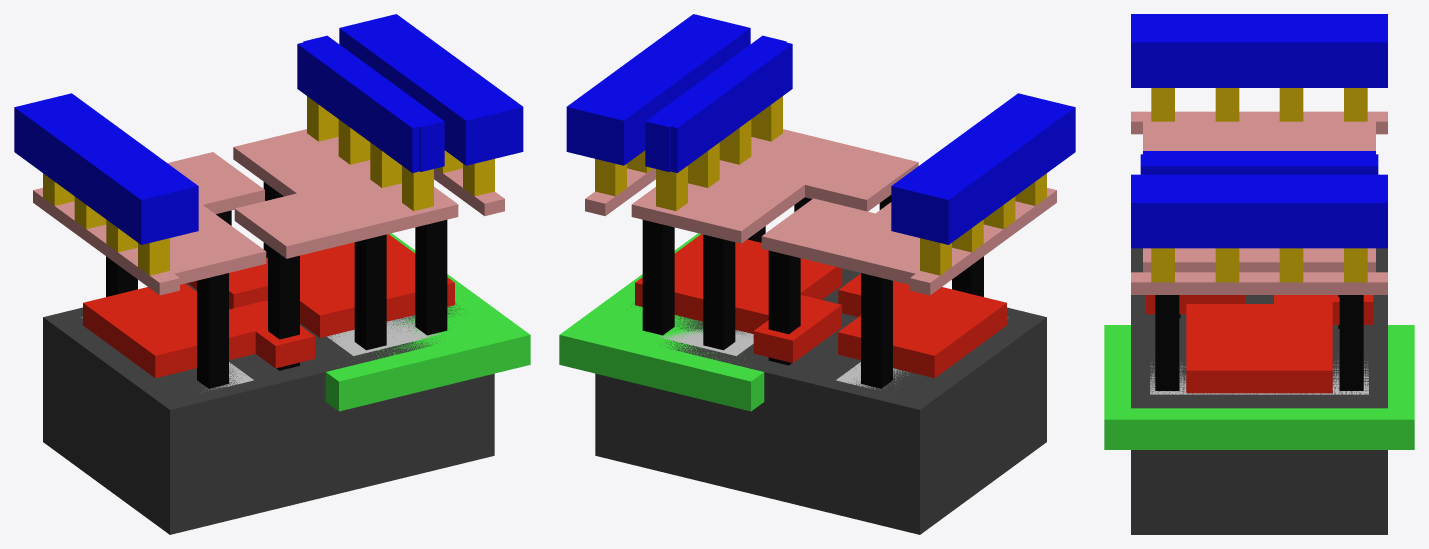
The model's file is sky130_fd_sc_hd__lpflow_decapkapwr_4.obj.
3 views of the same model, side by side, from view 1: azimuth 30°, elevation 25°; view 2: azimuth 150°, elevation 25°; view 3: azimuth 270°, elevation 25° (orthographic).
Parts seen in each view (by area): view 1: subs, metal1, li, poly, licon, nwell, mcon, tap; view 2: subs, metal1, li, poly, licon, nwell, mcon, tap; view 3: metal1, subs, nwell, li, poly, mcon, licon, tap.
Part boxes in pixels (x1,y1,x2,y2): subs: (43,283,494,534); metal1: (14,14,523,244); li: (33,129,504,295); poly: (83,234,454,378); licon: (106,182,447,388); nwell: (325,233,530,411); mcon: (43,96,494,275); tap: (327,315,440,355); subs: (595,268,1046,534); metal1: (566,14,1075,244); li: (585,129,1056,295); poly: (635,234,1006,378); licon: (642,195,983,388); nwell: (559,233,764,411); mcon: (595,96,1046,275); tap: (658,329,753,355); metal1: (1131,14,1387,248); subs: (1131,248,1387,534); nwell: (1104,325,1414,449); li: (1131,111,1387,294); poly: (1145,295,1373,393); mcon: (1151,88,1367,282); licon: (1155,295,1363,390); tap: (1150,361,1368,394).
Bounding box in the file's own units: 3.2 × 2.74 × 2.22.
